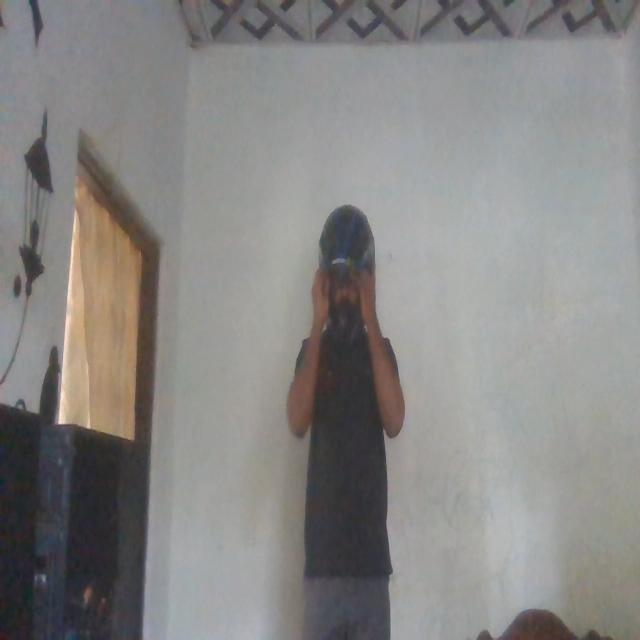Helmet_Wearer: (312, 204, 388, 342)
Person: (284, 197, 419, 638)
